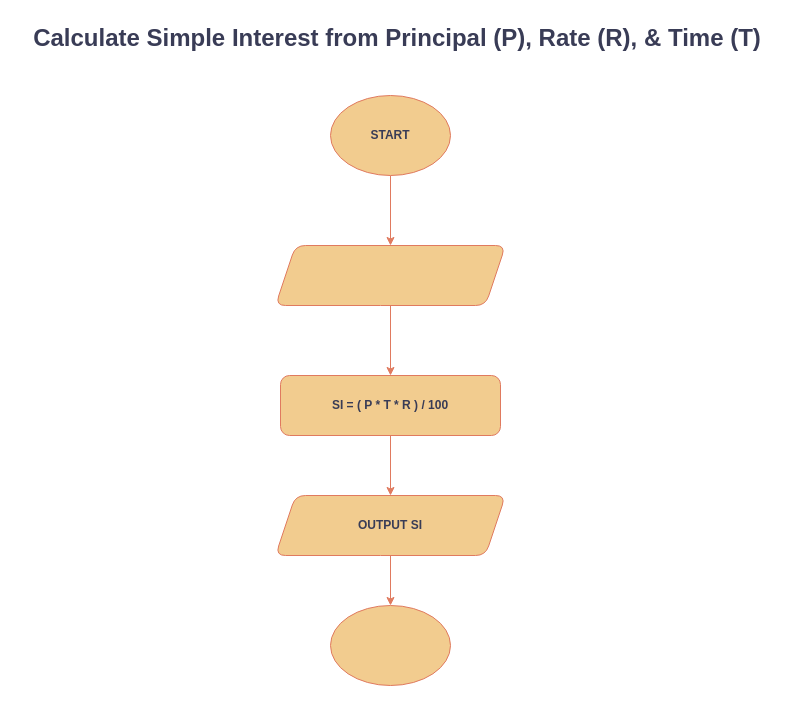
This 794x703 diagram has some shape labels left out. The centre of each missing label's shape, as x and y in pixels:
"END" belongs at point (390, 645).
"INPUT P, T, R" belongs at point (390, 275).
